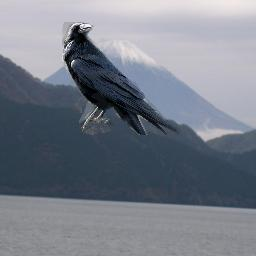Crow: (62, 22, 180, 135)
